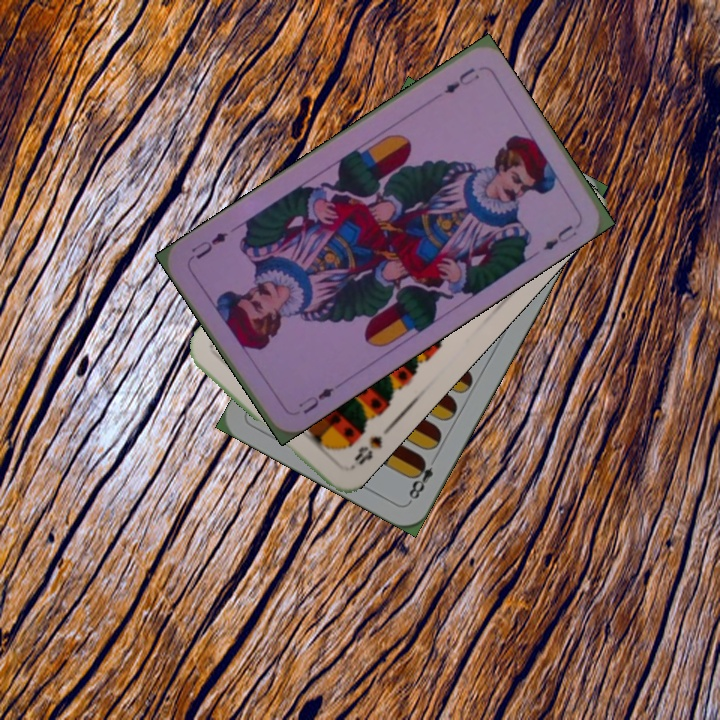E8: (404, 454, 437, 505)
EU: (439, 63, 483, 97), (294, 383, 337, 417)
S8: (345, 432, 386, 473)
